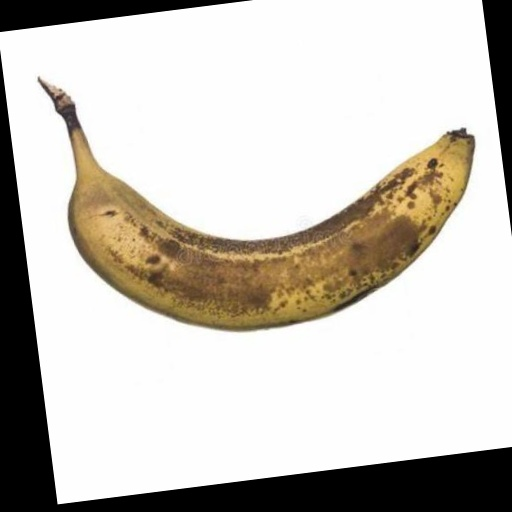fruit: (40, 79, 474, 329)
